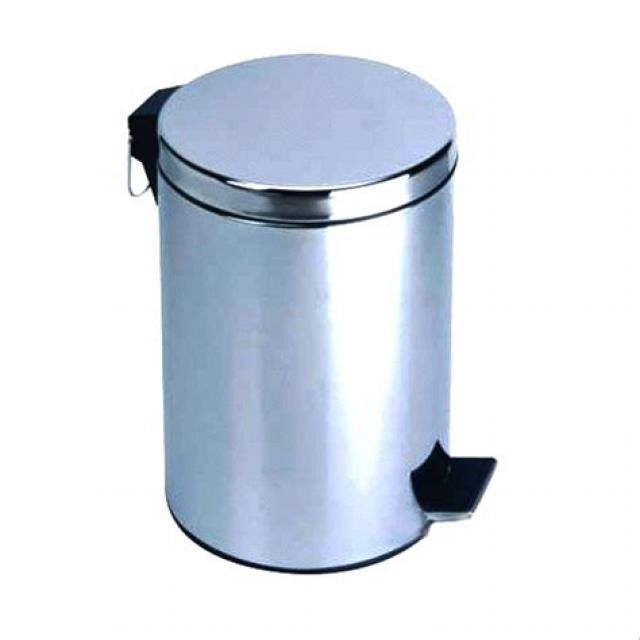garbage container: (112, 47, 508, 577)
